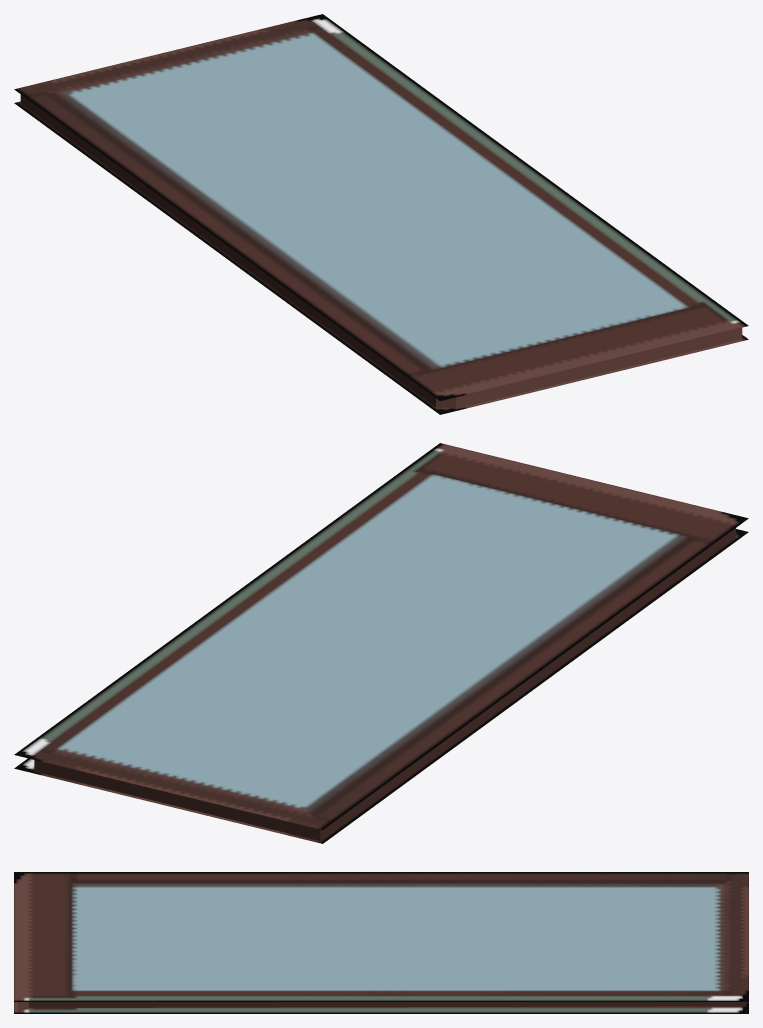
Rendered from pz_native_fixtures_doors_01_105_frame.obj.
3 views of the same model, one above another, from view 1: azimuth 30°, elevation 25°; view 2: azimuth 150°, elevation 25°; view 3: azimuth 270°, elevation 25° (orthographic). The views are drawn at different scales.
Parts seen in each view (by area): view 1: pz_native_fixtures_doors_01_105_frame; view 2: pz_native_fixtures_doors_01_105_frame; view 3: pz_native_fixtures_doors_01_105_frame.
Part boxes in pixels (x1=…): pz_native_fixtures_doors_01_105_frame: x1=14, y1=14, x2=748, y2=414; pz_native_fixtures_doors_01_105_frame: x1=14, y1=443, x2=748, y2=843; pz_native_fixtures_doors_01_105_frame: x1=14, y1=872, x2=748, y2=1013.
Bounding box in the file's own units: 1.06 × 0.045 × 2.54.
Materials: 1 (1 with a texture image).
